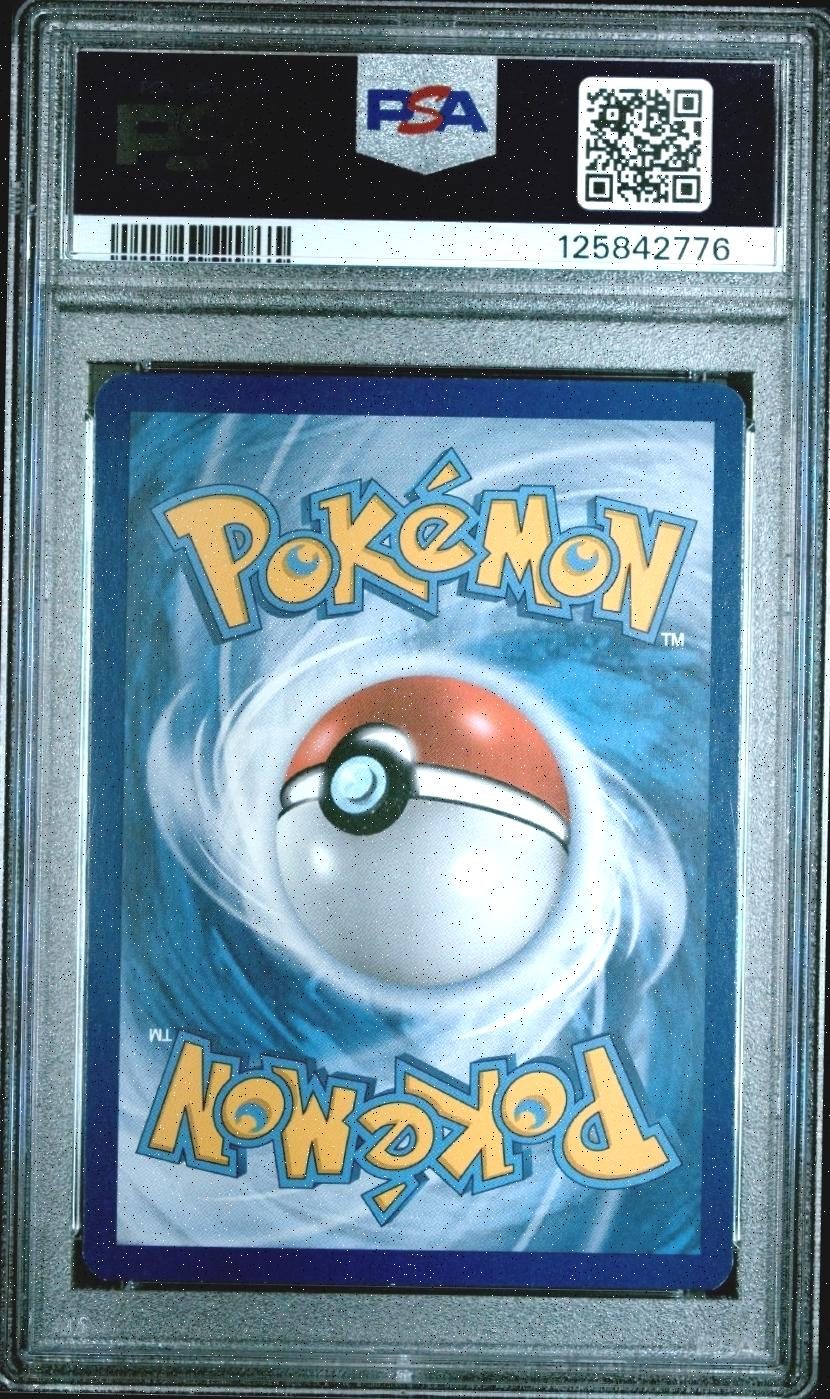card-2UtV: (81, 371, 747, 1291)
